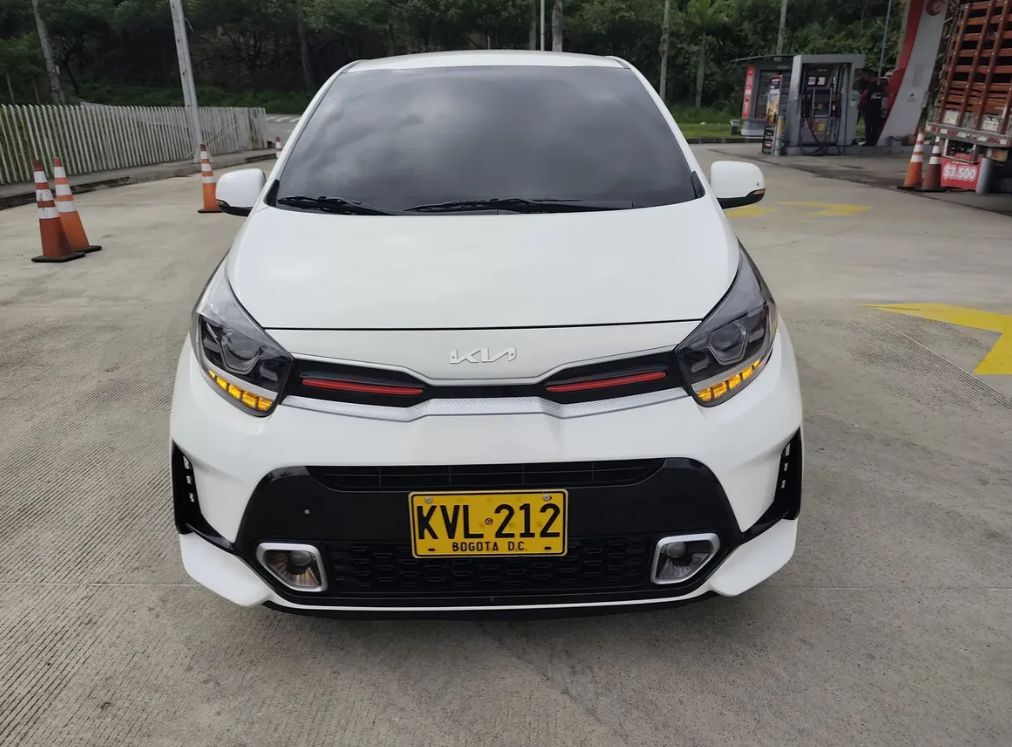placa: (408, 493, 569, 556)
